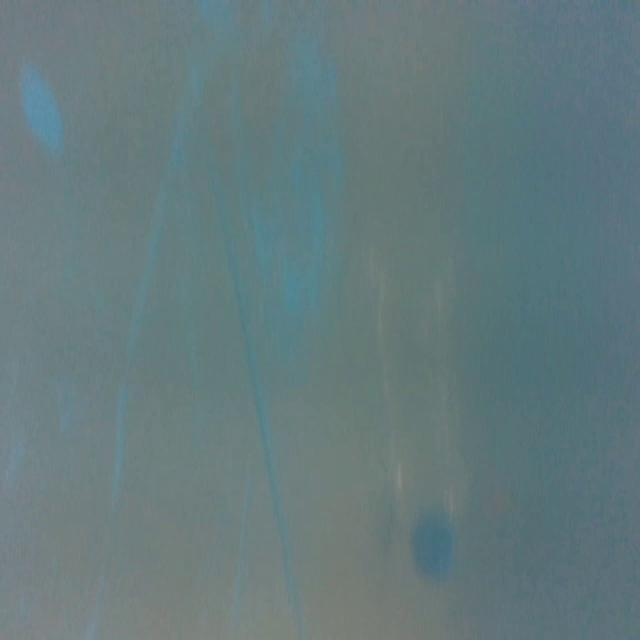plastic bottle: (362, 223, 483, 591)
